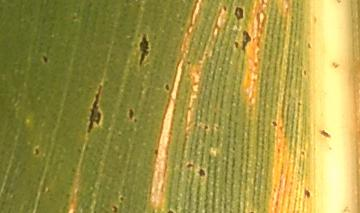tarspot: (86, 83, 105, 134), (135, 32, 151, 68), (240, 30, 253, 52), (233, 6, 246, 21), (318, 128, 333, 140), (303, 187, 311, 201), (196, 168, 207, 178), (127, 108, 135, 121), (184, 161, 195, 170), (110, 204, 119, 213), (270, 120, 279, 129), (33, 146, 41, 156), (331, 62, 341, 70), (163, 83, 171, 92), (232, 40, 240, 49), (42, 55, 49, 65), (118, 194, 125, 202), (202, 124, 209, 132), (301, 69, 308, 77), (305, 43, 313, 50), (221, 5, 228, 12), (153, 148, 159, 156), (166, 208, 175, 213), (134, 119, 139, 125)
